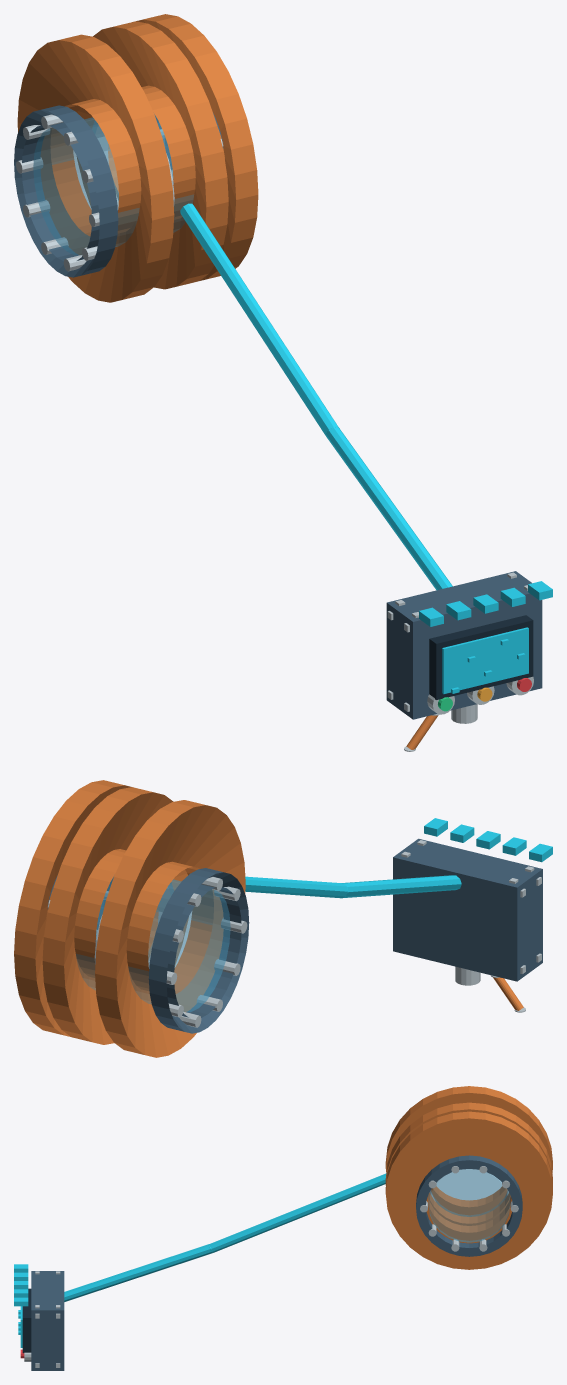
The model's file is 17_L75_PrimaryBeamCurrentMonitor.fbx.
3 renders of one model, top to bottom at view 1: azimuth 30°, elevation 25°; view 2: azimuth 150°, elevation 25°; view 3: azimuth 270°, elevation 25°, orthographic. The views are drawn at different scales.
Parts seen in each view (by area): view 1: PrimaryBeamCurrentMonitor; view 2: PrimaryBeamCurrentMonitor; view 3: PrimaryBeamCurrentMonitor.
Part boxes in pixels (<box>): PrimaryBeamCurrentMonitor: <box>14,14,552,751</box>; PrimaryBeamCurrentMonitor: <box>14,780,552,1057</box>; PrimaryBeamCurrentMonitor: <box>14,1086,552,1370</box>.
Size of the model in its own units: 61.5 by 174 by 303.
